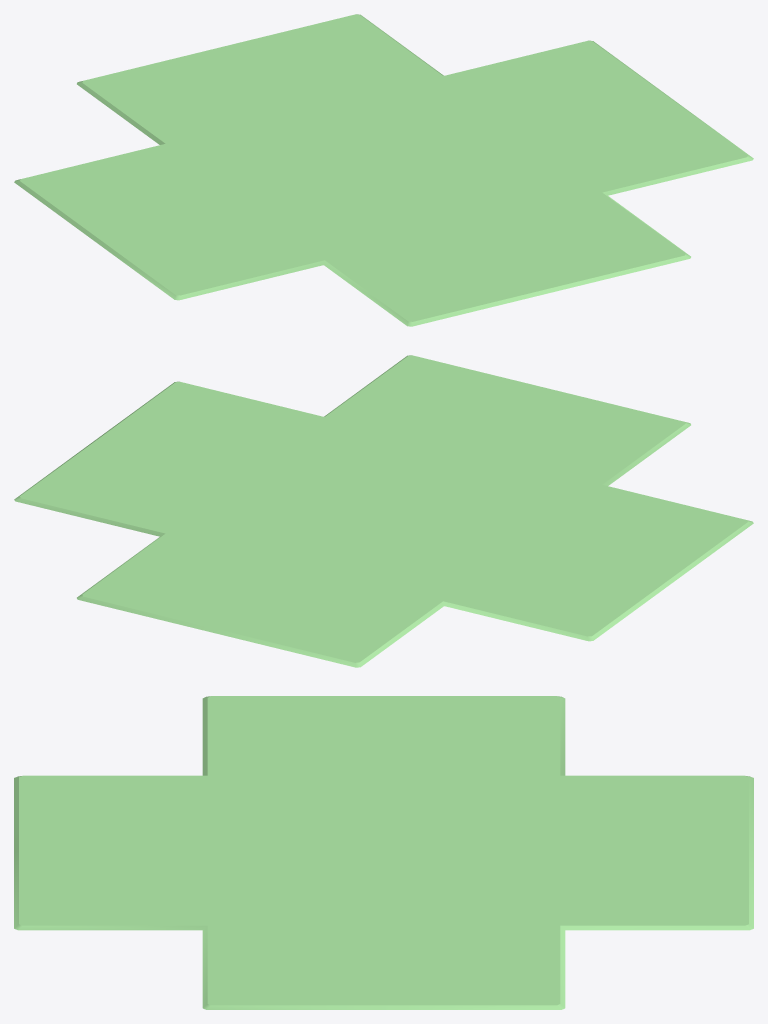
Rendered from SM_CrossTable_Center.fbx.
The picture shows the model from 3 angles, top to bottom: view 1: azimuth 30°, elevation 25°; view 2: azimuth 150°, elevation 25°; view 3: azimuth 270°, elevation 25°; orthographic projection. The views are drawn at different scales.
Parts seen in each view (by area): view 1: SM_CrossTable_Center; view 2: SM_CrossTable_Center; view 3: SM_CrossTable_Center.
Part boxes in pixels (x1,y1,x2,y2): SM_CrossTable_Center: (14, 14, 753, 326); SM_CrossTable_Center: (14, 355, 753, 667); SM_CrossTable_Center: (14, 696, 753, 1009).
Bounding box in the file's own units: 157 × 0.6014 × 157.
